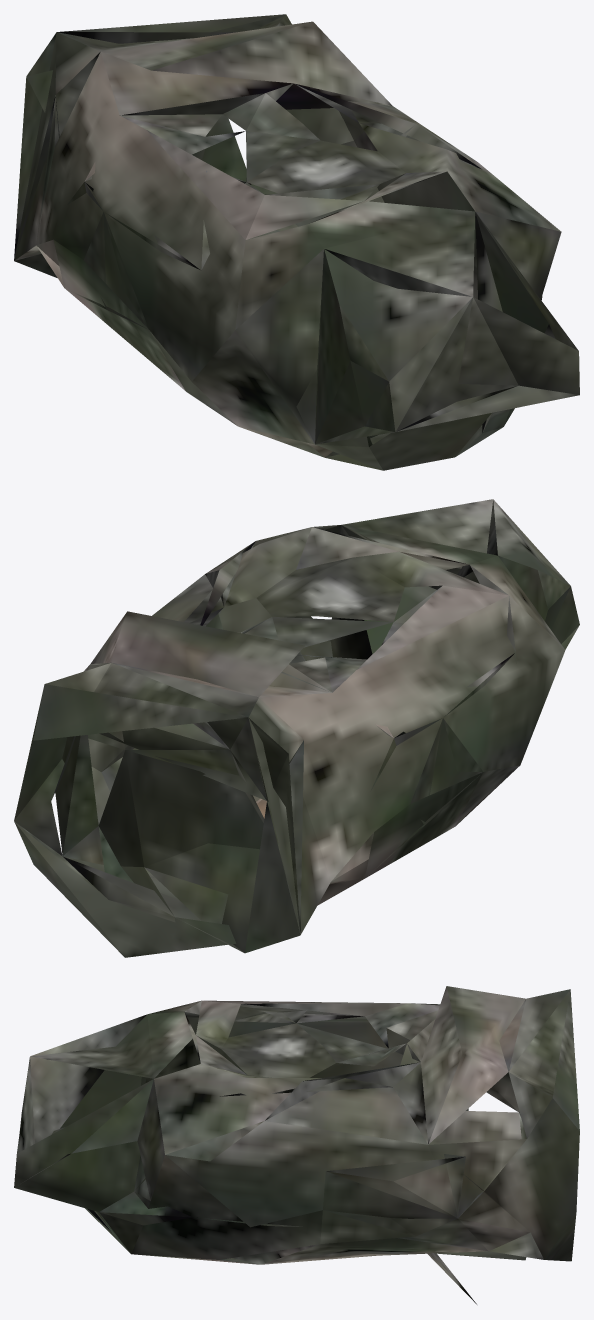
The model's file is power_plant_78830161_lod1.glb.
The picture shows the model from 3 angles, top to bottom: view 1: azimuth 30°, elevation 25°; view 2: azimuth 150°, elevation 25°; view 3: azimuth 270°, elevation 25°; orthographic projection. The views are drawn at different scales.
Bounding box in the file's own units: 7.78 × 6.42 × 13.91.
Materials: 1 (1 with a texture image).
